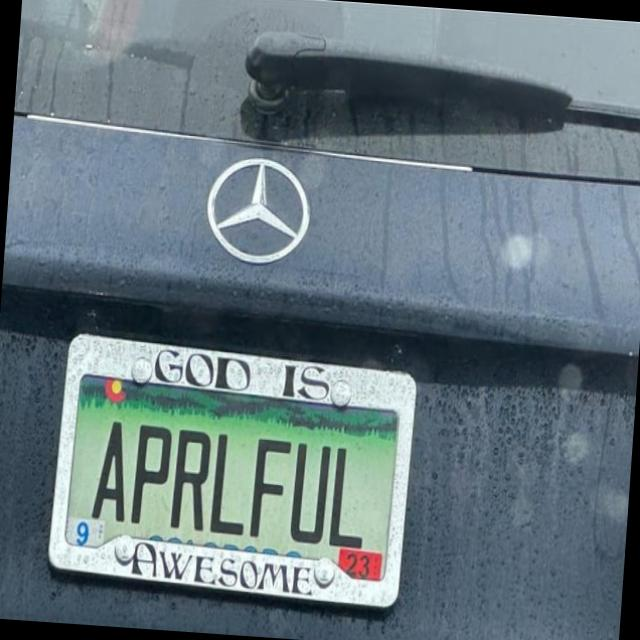LicensePlate: (43, 333, 417, 611)
